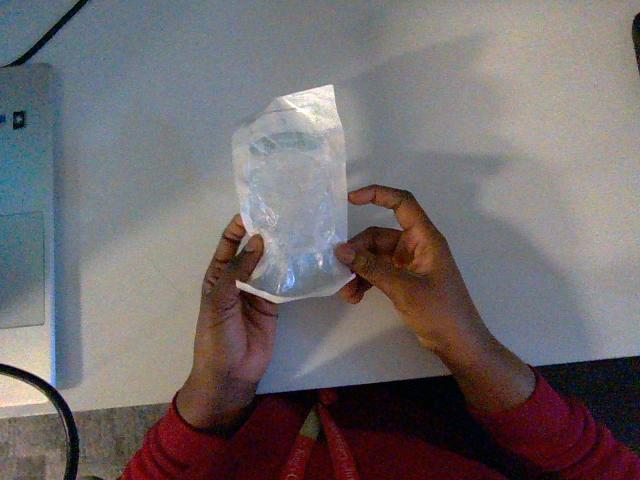gallipot: (232, 85, 352, 302)
